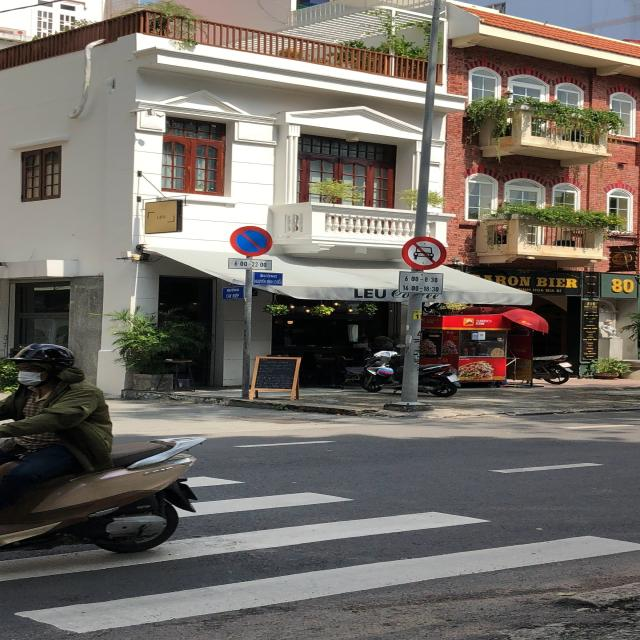Bien bao cam do xe: (230, 221, 280, 257)
Bien bao cam xe oto: (398, 233, 450, 270)
